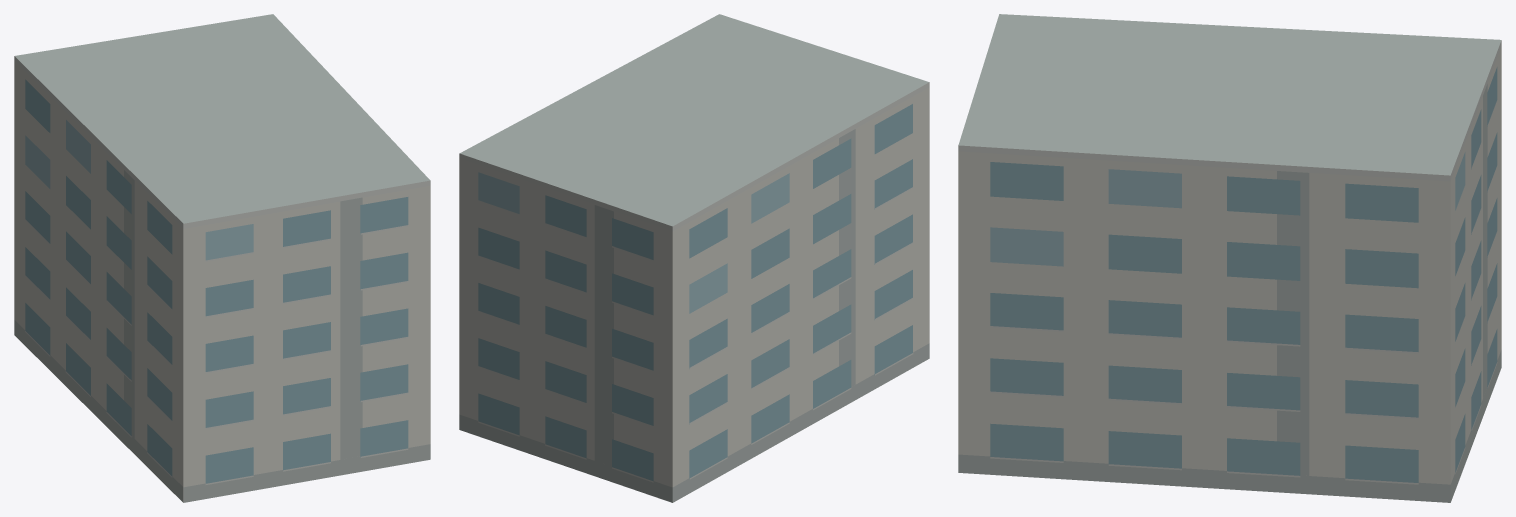
The model's file is survey-upis-32919896.glb.
3 renders of one model, left to right at view 1: azimuth 30°, elevation 25°; view 2: azimuth 150°, elevation 25°; view 3: azimuth 270°, elevation 25°, orthographic. The views are drawn at different scales.
Visible parts, largest first — view 1: survey-upis-32919896.tmp; view 2: survey-upis-32919896.tmp; view 3: survey-upis-32919896.tmp.
Boxes of the visible parts, left/top/right/bottom form: survey-upis-32919896.tmp: left=14, top=14, right=430, bottom=502; survey-upis-32919896.tmp: left=459, top=14, right=929, bottom=502; survey-upis-32919896.tmp: left=958, top=14, right=1501, bottom=502.
Size of the model in its own units: 14.08 by 13.3 by 20.01.
